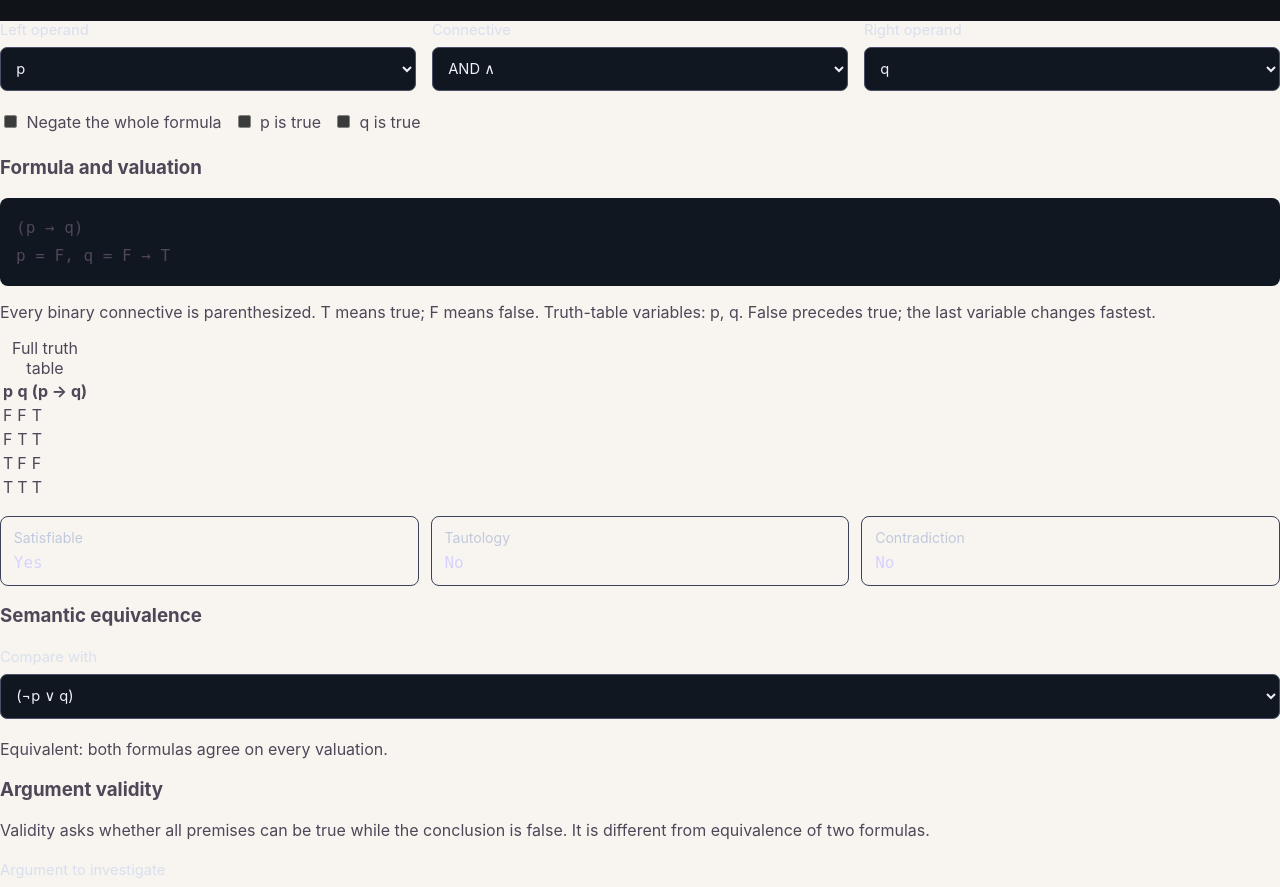
Test case: R&L workspace controls preserve their mathematical claims › evaluates all four binary connective selections, negation and duplicate-operand variable bounds
The width and height of the screenshot is (1280, 887).
Expected: the label "Connective" is shown, [432,21,848,91]
Select "AND ∧" in the dropdown labelled "Connective" at (640, 69), box [432,47,848,91]
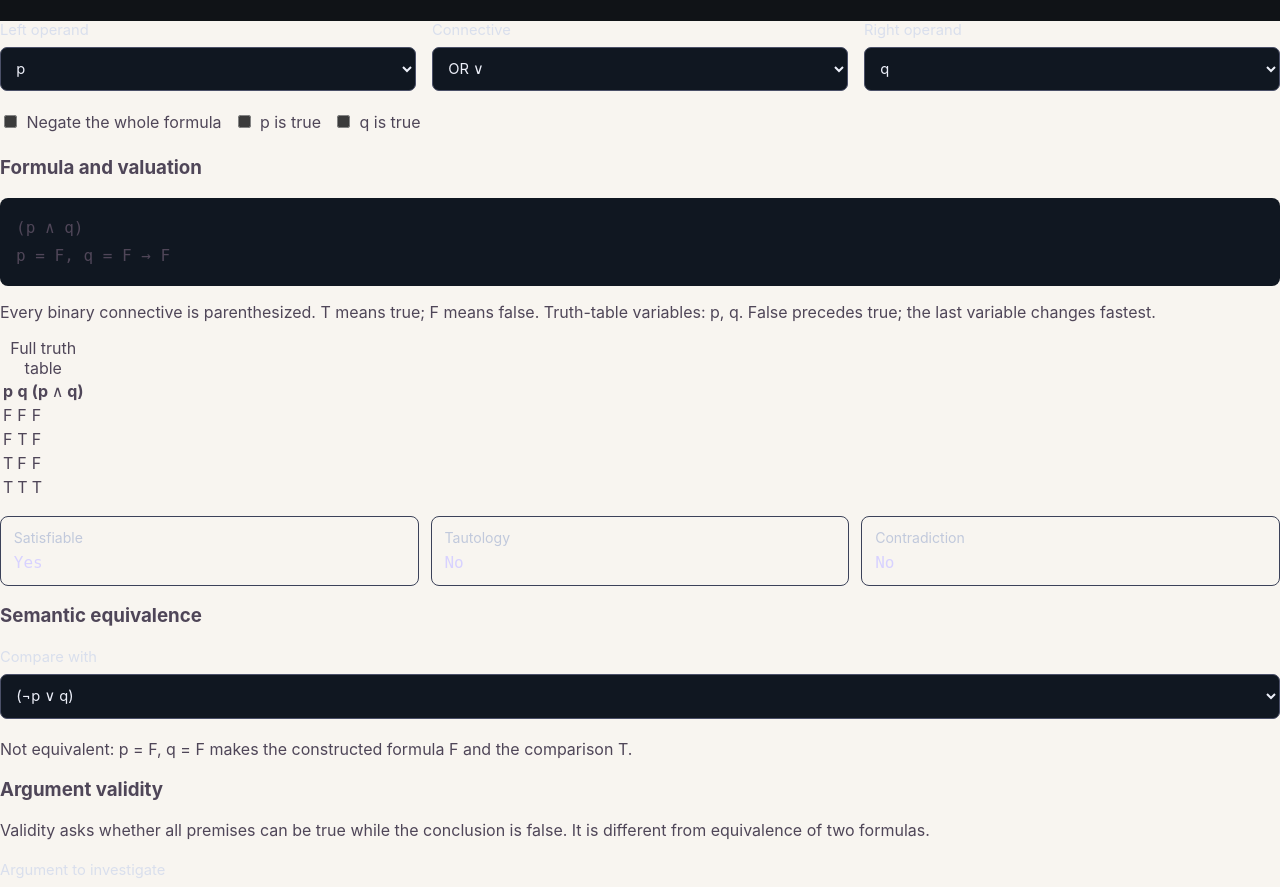
Select "OR ∨" in the dropdown labelled "Connective" at (640, 69), box [432,47,848,91]
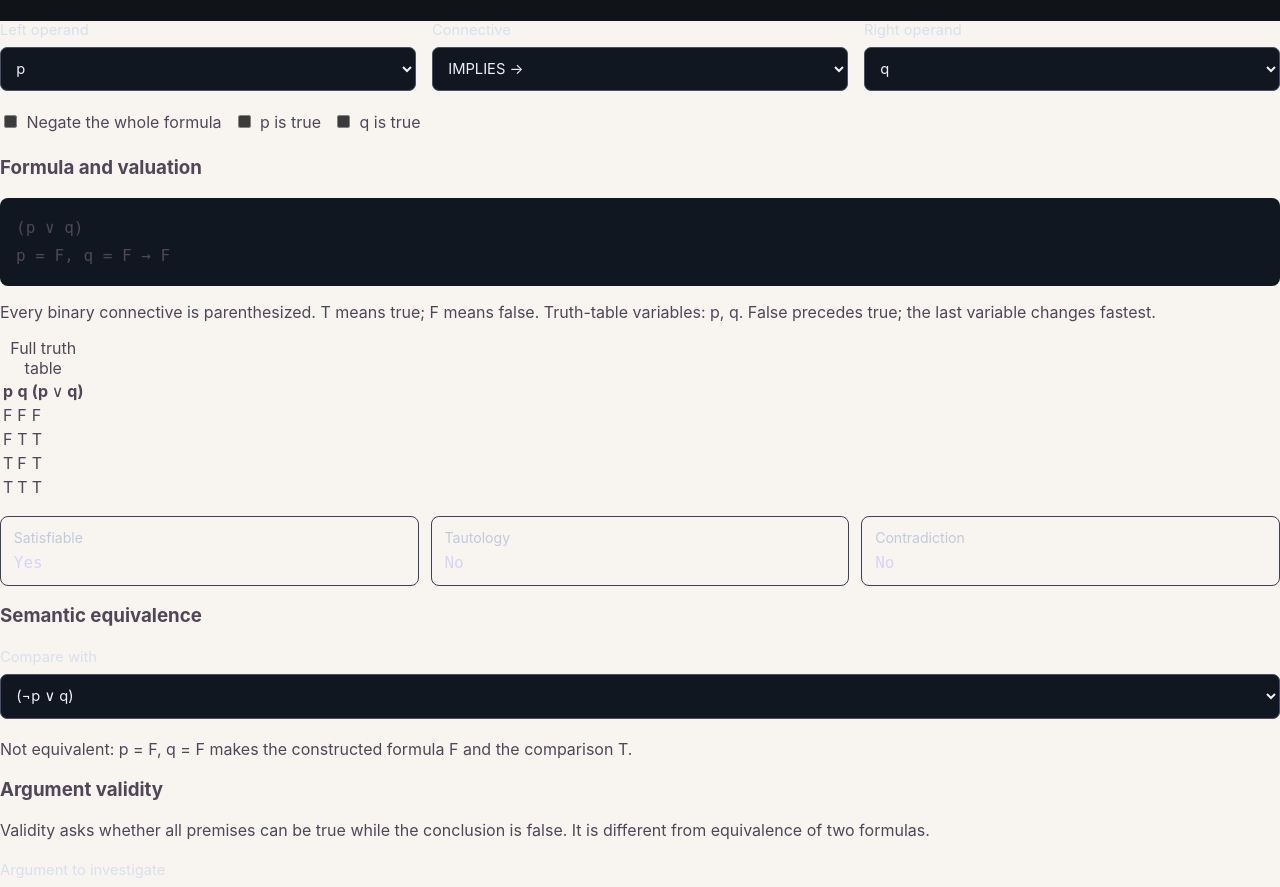
Select "IMPLIES →" in the dropdown labelled "Connective" at (640, 69), box [432,47,848,91]
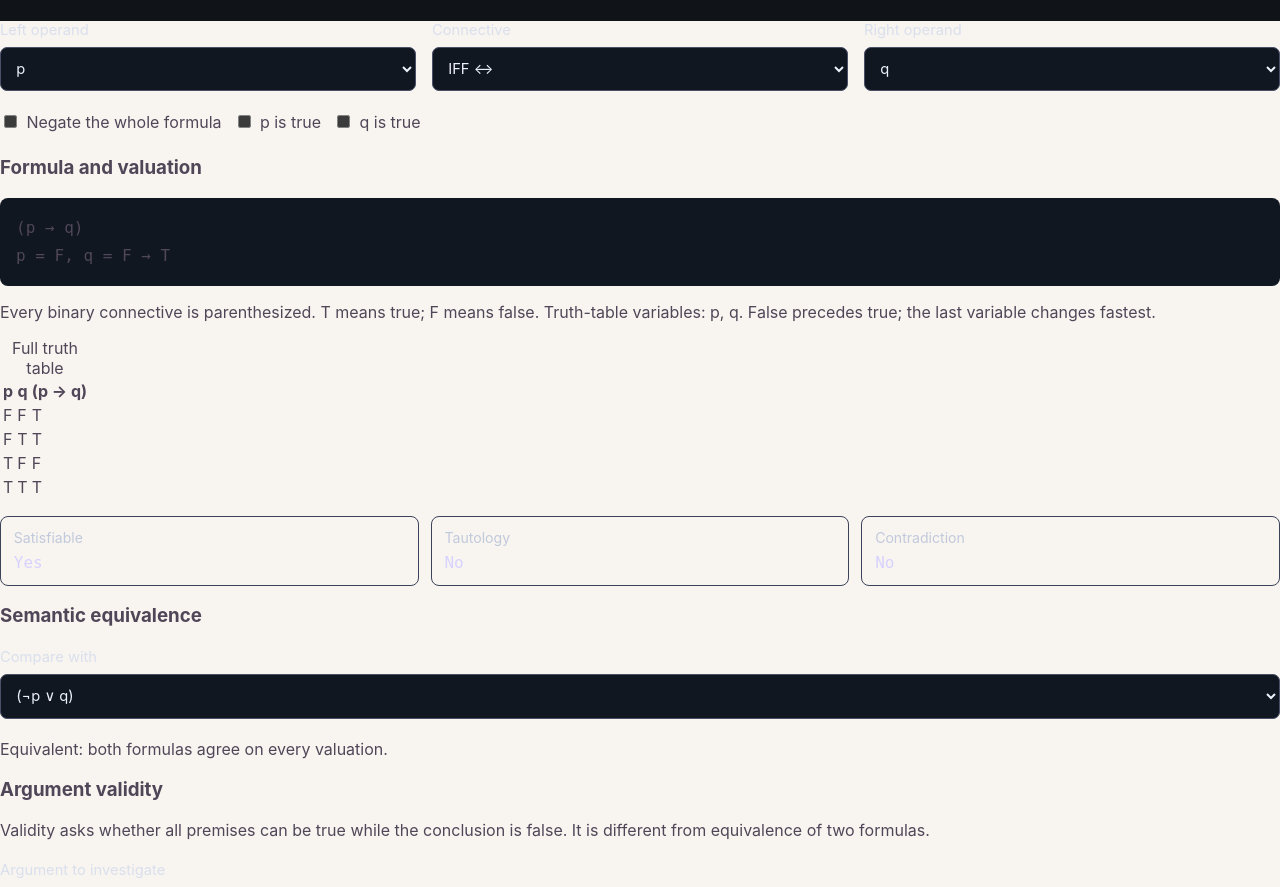
Select "IFF ↔" in the dropdown labelled "Connective" at (640, 69), box [432,47,848,91]
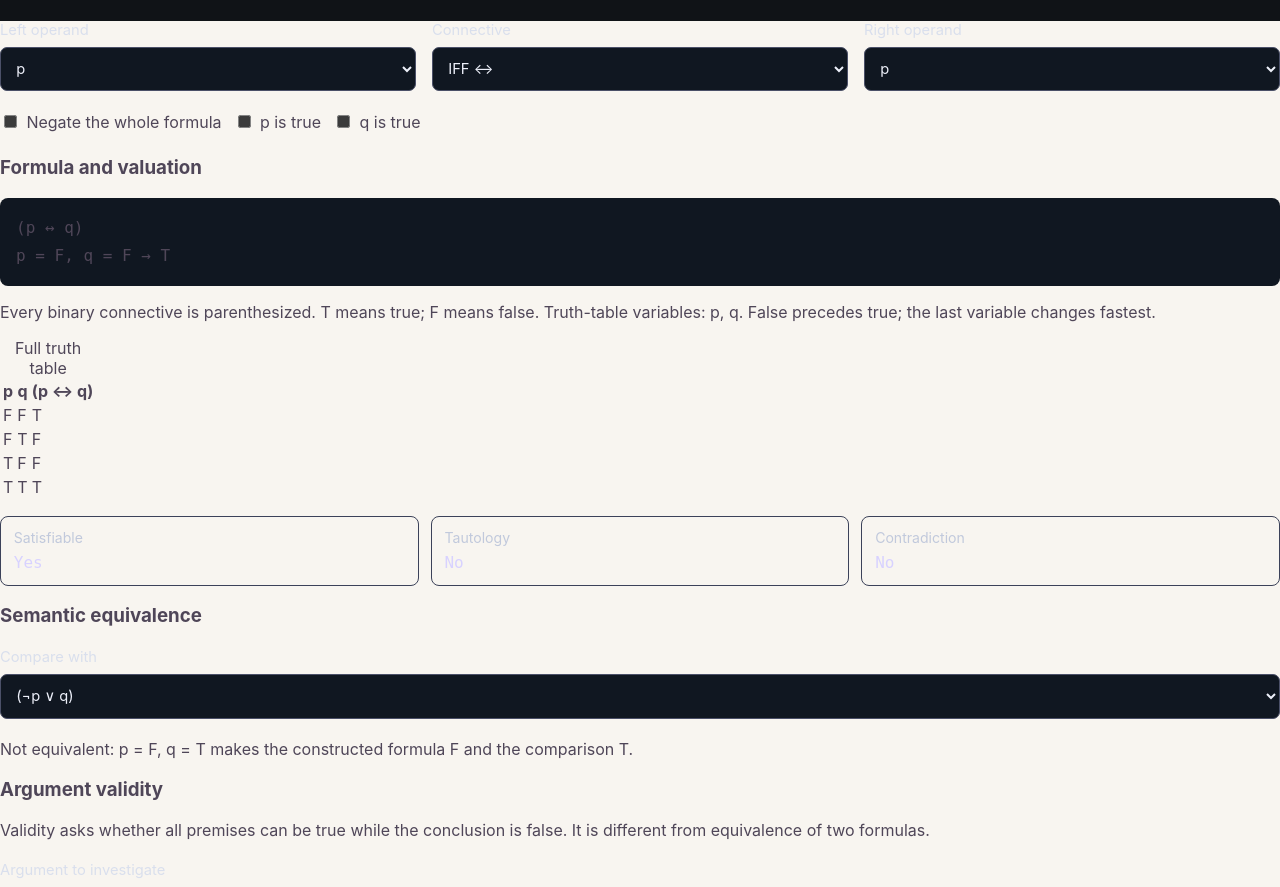
Expected: the label "Right operand" is shown, [864,21,1279,91]
Select "p" in the dropdown labelled "Right operand" at (1072, 69), box [864,47,1279,91]
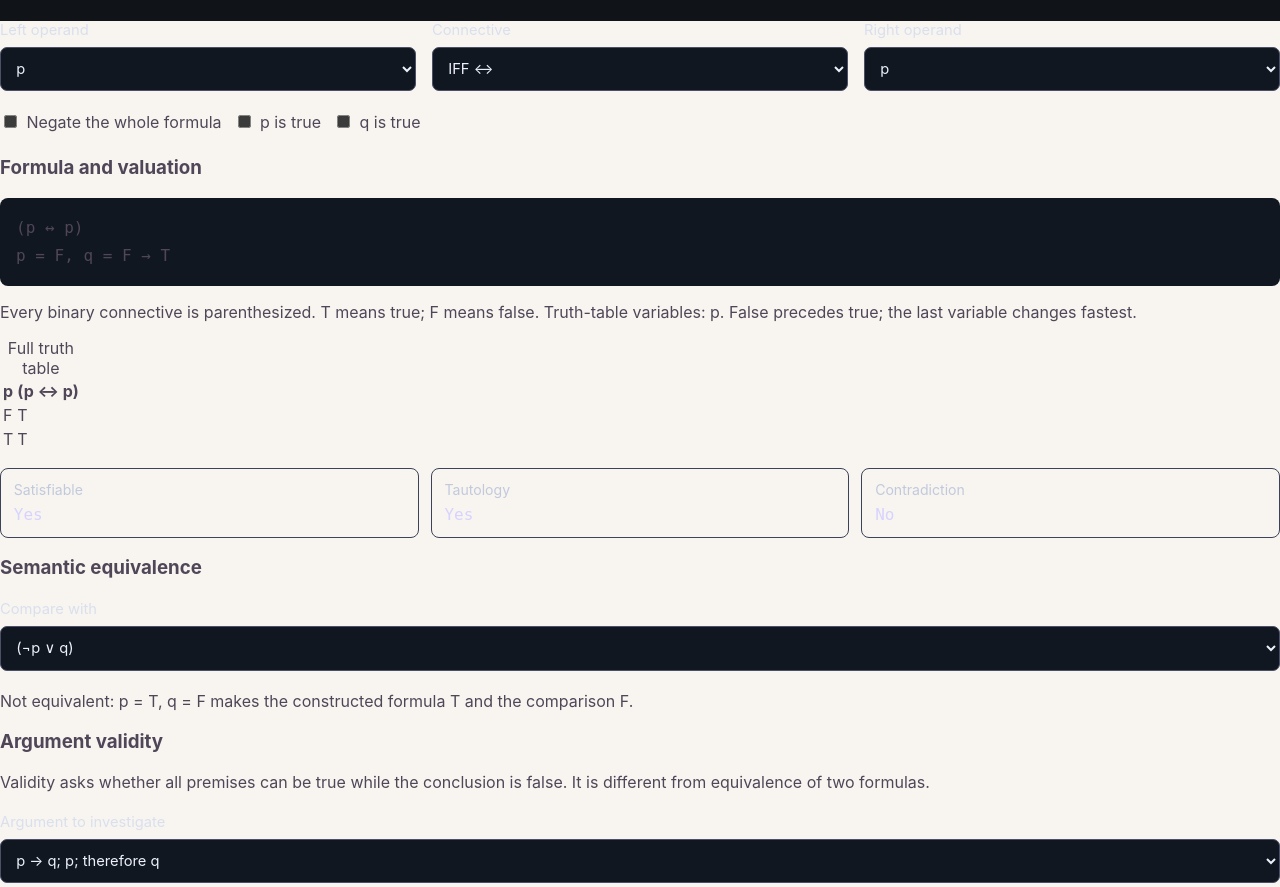
Expected: the text "Tautology" is shown, [444,482,510,498]
Expected: the text "Yes" below "Satisfiable" is shown, [14,505,43,524]
Click the checkbox labelled "Negate the whole formula" at (10, 122), box [4,116,17,128]
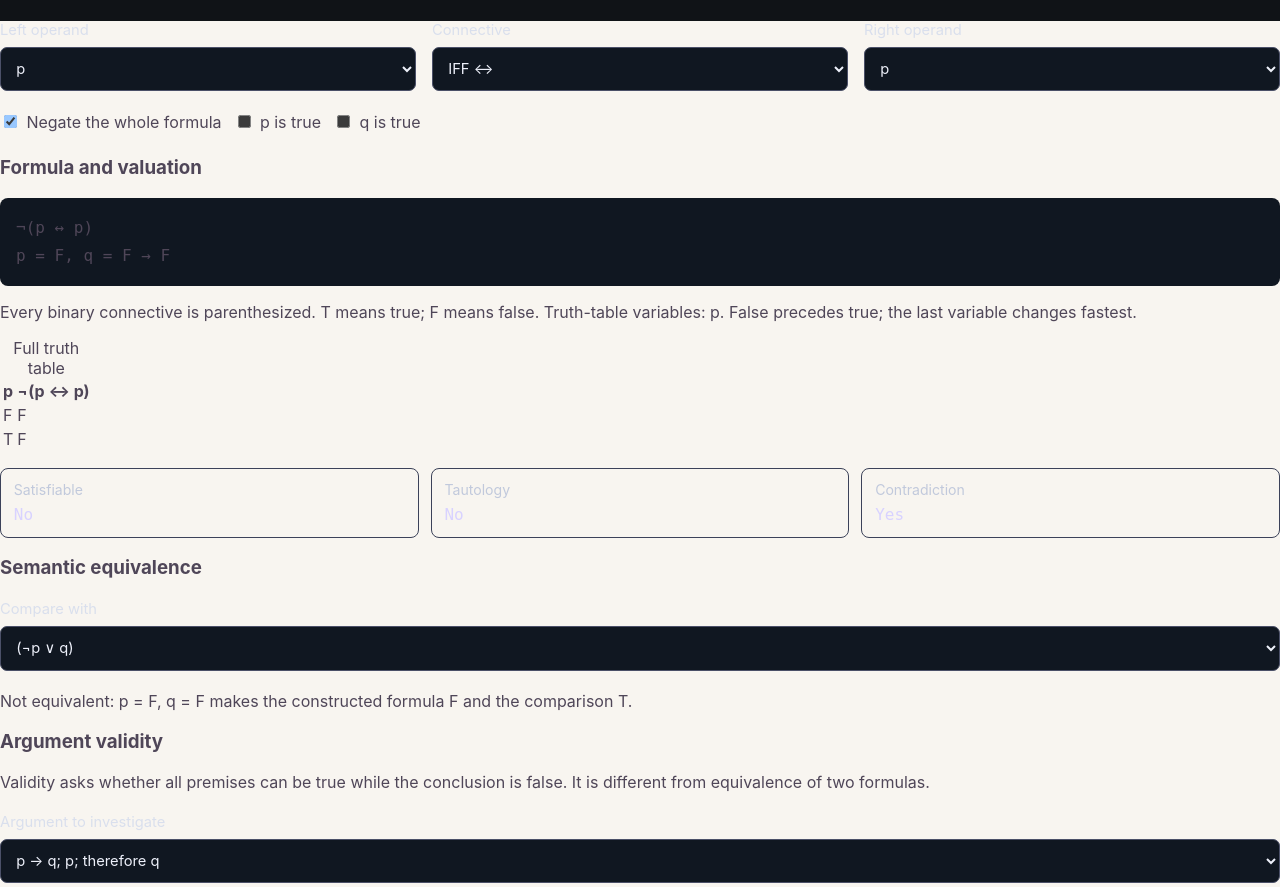
Expected: the text "Contradiction" is shown, [875,482,965,498]
Now the text "Yes" is shown, box [875,505,904,524]
